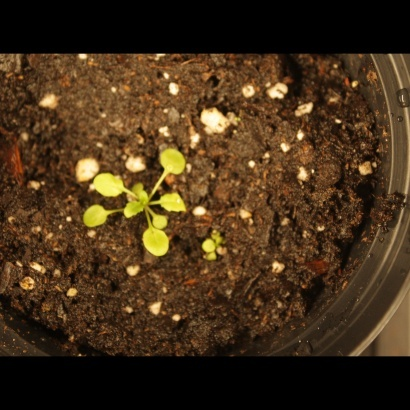leaf: (136, 225, 177, 261), (88, 169, 128, 199), (156, 146, 191, 176), (79, 202, 110, 232), (157, 191, 194, 215), (147, 211, 170, 234), (123, 201, 146, 224), (201, 235, 224, 258), (128, 181, 151, 204)
